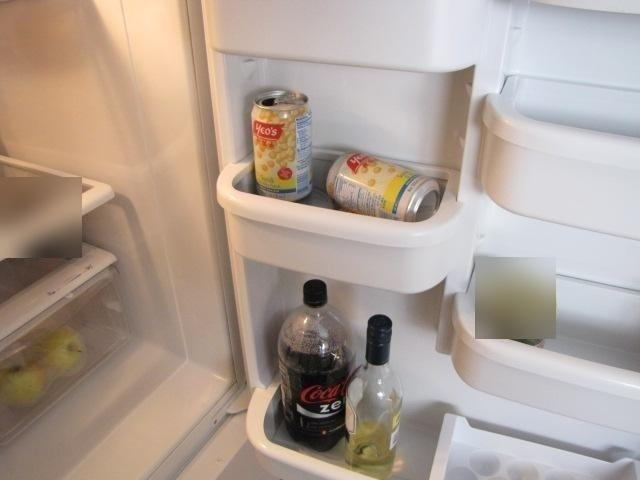bottle-glass: (346, 314, 406, 473)
bottle-plastic: (275, 277, 354, 454)
tin can: (322, 151, 442, 225), (249, 86, 314, 199)
